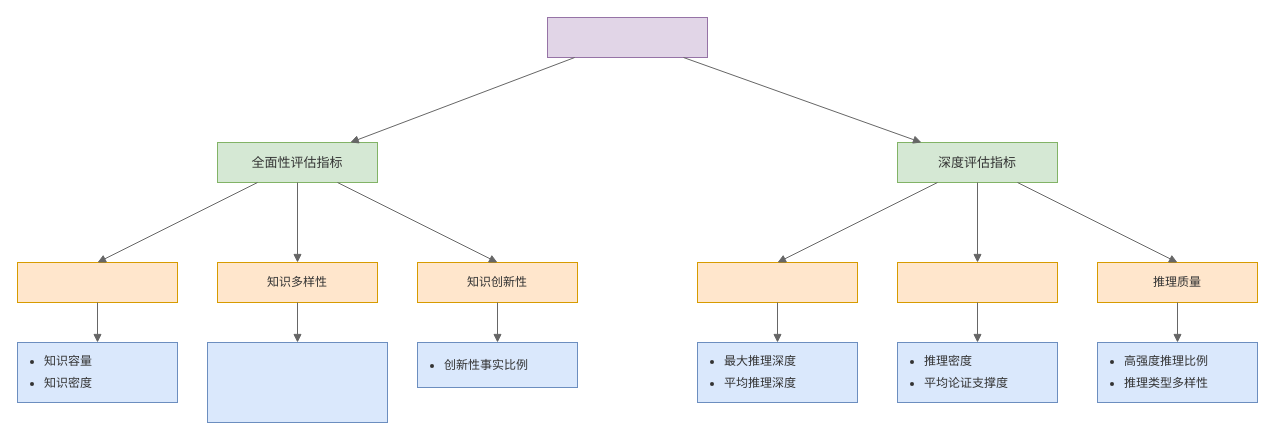
Image size: 1275x440. Some labels were removed from this diagram. The shapes that lost their labels are listed below. From the top down, each one's centre as x and y in pixels, then its label:
At point 627,37: "评估指标体系".
At point 97,282: "知识容量与密度".
At point 777,282: "推理链结构".
At point 977,282: "推理网络密度与复杂度".
At point 297,382: "事实类型多样性 主题覆盖广度 事实类型分布均衡度".
